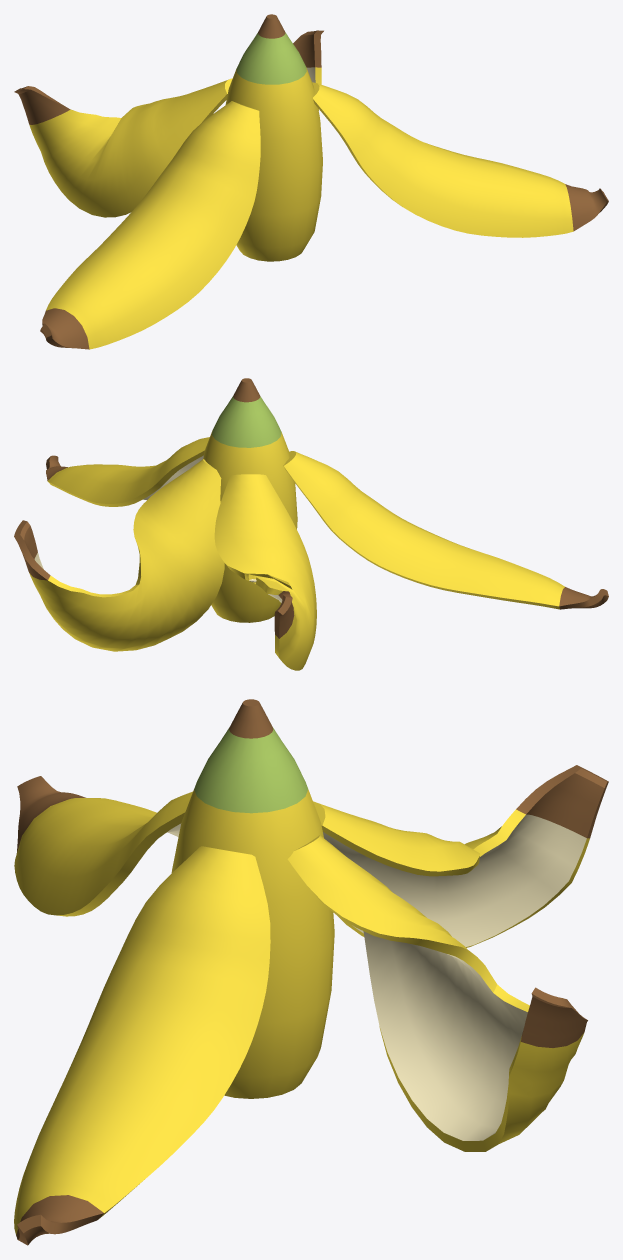
Rendered from banana_peel.glb.
3 renders of one model, top to bottom at view 1: azimuth 30°, elevation 25°; view 2: azimuth 150°, elevation 25°; view 3: azimuth 270°, elevation 25°, orthographic. The views are drawn at different scales.
Visible parts, largest first — view 1: PeelLongLeft, PeelLongRight, Core, PeelFlapLeft, PeelFlapRight; view 2: PeelFlapRight, PeelLongLeft, PeelFlapLeft, Core, PeelLongRight; view 3: PeelLongRight, PeelFlapRight, Core, PeelFlapLeft, PeelLongLeft.
Part boxes in pixels (bbox=[...]): PeelLongLeft: bbox=[40, 101, 260, 349]; PeelLongRight: bbox=[312, 82, 608, 237]; Core: bbox=[225, 14, 322, 261]; PeelFlapLeft: bbox=[14, 78, 232, 217]; PeelFlapRight: bbox=[293, 30, 323, 110]; PeelFlapRight: bbox=[14, 459, 224, 651]; PeelLongLeft: bbox=[283, 451, 608, 609]; PeelFlapLeft: bbox=[214, 474, 316, 670]; Core: bbox=[203, 378, 297, 622]; PeelLongRight: bbox=[46, 437, 209, 506]; PeelLongRight: bbox=[14, 846, 270, 1245]; PeelFlapRight: bbox=[287, 835, 587, 1151]; Core: bbox=[171, 699, 334, 1098]; PeelFlapLeft: bbox=[313, 765, 608, 947]; PeelLongLeft: bbox=[14, 776, 192, 916].
Size of the model in its own units: 1.99 by 0.816 by 1.13.
